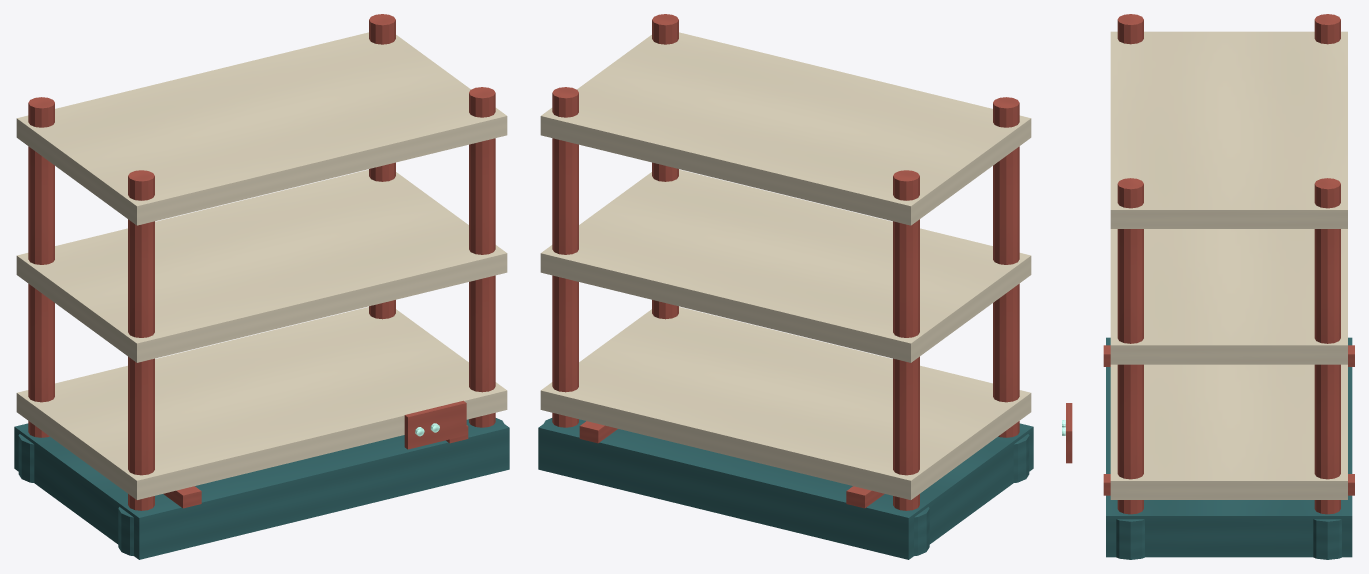
The model's file is atlas100-s037-a06.glb.
The picture shows the model from 3 angles, left to right: view 1: azimuth 30°, elevation 25°; view 2: azimuth 150°, elevation 25°; view 3: azimuth 270°, elevation 25°; orthographic projection.
Parts seen in each view (by area): view 1: atlas100-s037-a06:part-013, atlas100-s037-a06:part-012, atlas100-s037-a06:part-011, atlas100-s037-a06:part-000, atlas100-s037-a06:part-005, atlas100-s037-a06:part-009, atlas100-s037-a06:part-003, atlas100-s037-a06:part-014, atlas100-s037-a06:part-007, atlas100-s037-a06:part-004, atlas100-s037-a06:part-006; view 2: atlas100-s037-a06:part-013, atlas100-s037-a06:part-012, atlas100-s037-a06:part-011, atlas100-s037-a06:part-000, atlas100-s037-a06:part-003, atlas100-s037-a06:part-007, atlas100-s037-a06:part-005, atlas100-s037-a06:part-009, atlas100-s037-a06:part-006, atlas100-s037-a06:part-004; view 3: atlas100-s037-a06:part-013, atlas100-s037-a06:part-012, atlas100-s037-a06:part-011, atlas100-s037-a06:part-000, atlas100-s037-a06:part-007, atlas100-s037-a06:part-009, atlas100-s037-a06:part-008, atlas100-s037-a06:part-010, atlas100-s037-a06:part-003, atlas100-s037-a06:part-005, atlas100-s037-a06:part-014.
Part boxes in pixels (<box>): atlas100-s037-a06:part-013: <box>16,32,507,225</box>; atlas100-s037-a06:part-012: <box>16,169,507,362</box>; atlas100-s037-a06:part-011: <box>16,307,507,499</box>; atlas100-s037-a06:part-000: <box>14,418,509,559</box>; atlas100-s037-a06:part-005: <box>128,170,154,510</box>; atlas100-s037-a06:part-009: <box>469,87,495,427</box>; atlas100-s037-a06:part-003: <box>28,97,54,437</box>; atlas100-s037-a06:part-014: <box>404,400,466,449</box>; atlas100-s037-a06:part-007: <box>369,14,395,319</box>; atlas100-s037-a06:part-004: <box>18,434,34,482</box>; atlas100-s037-a06:part-006: <box>118,507,133,555</box>; atlas100-s037-a06:part-013: <box>540,32,1031,225</box>; atlas100-s037-a06:part-012: <box>540,169,1031,362</box>; atlas100-s037-a06:part-011: <box>540,307,1031,499</box>; atlas100-s037-a06:part-000: <box>538,418,1033,559</box>; atlas100-s037-a06:part-003: <box>893,170,919,510</box>; atlas100-s037-a06:part-007: <box>552,87,578,427</box>; atlas100-s037-a06:part-005: <box>993,97,1019,437</box>; atlas100-s037-a06:part-009: <box>652,14,678,319</box>; atlas100-s037-a06:part-006: <box>1013,434,1029,482</box>; atlas100-s037-a06:part-004: <box>914,507,929,555</box>; atlas100-s037-a06:part-013: <box>1110,31,1347,228</box>; atlas100-s037-a06:part-012: <box>1110,229,1347,364</box>; atlas100-s037-a06:part-011: <box>1110,364,1347,499</box>; atlas100-s037-a06:part-000: <box>1106,337,1352,557</box>; atlas100-s037-a06:part-007: <box>1314,178,1340,514</box>; atlas100-s037-a06:part-009: <box>1117,178,1143,514</box>; atlas100-s037-a06:part-008: <box>1313,519,1341,559</box>; atlas100-s037-a06:part-010: <box>1116,519,1144,559</box>; atlas100-s037-a06:part-003: <box>1314,14,1340,44</box>; atlas100-s037-a06:part-005: <box>1117,14,1143,44</box>; atlas100-s037-a06:part-014: <box>1066,403,1072,463</box>.
Bounding box in the file's own units: 2.47 × 2.3 × 1.66.
Materials: 4 (4 with a texture image).
